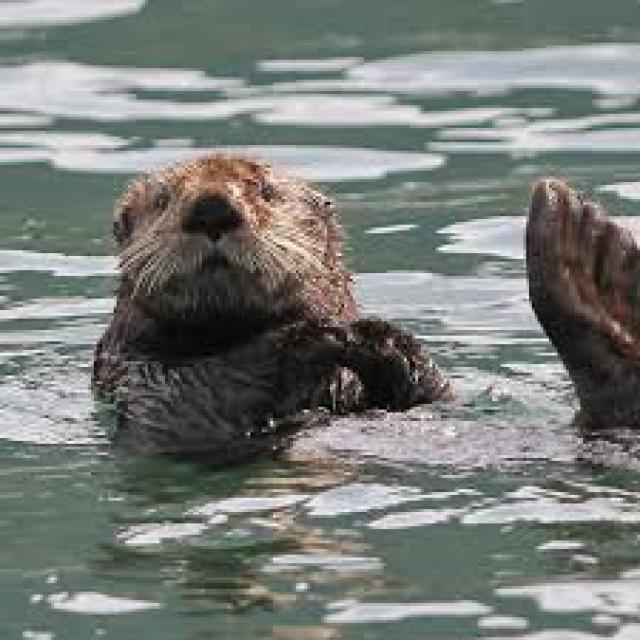Otter: (103, 136, 430, 469)
